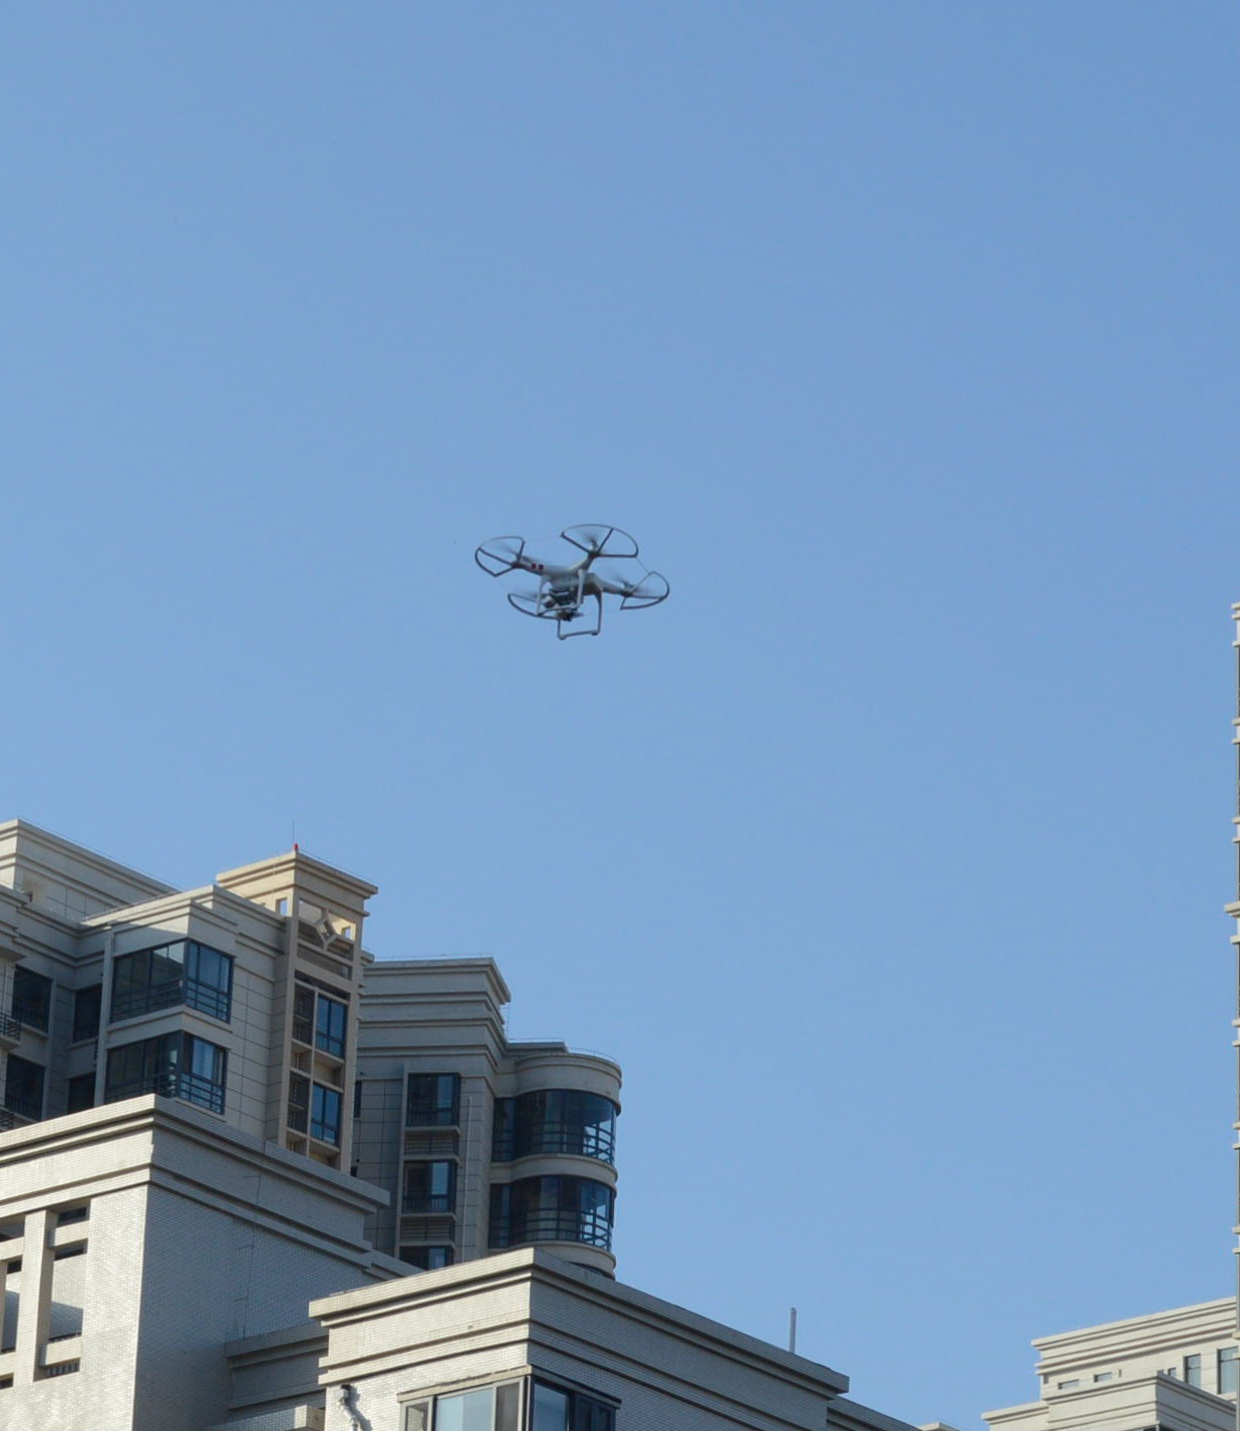DJI: (464, 524, 675, 636)
